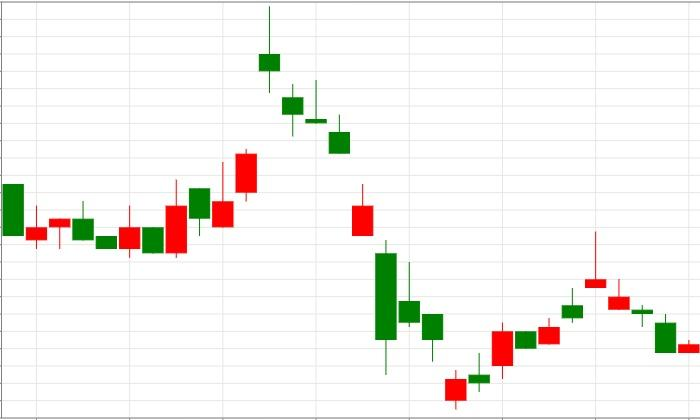bullish_engulfing_rise: (72, 179, 188, 258)
